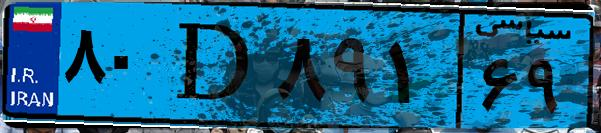0: (110, 28, 158, 98)
1: (385, 28, 445, 110)
6: (475, 38, 525, 113)
8: (270, 28, 330, 110), (57, 26, 110, 100)
9: (330, 28, 385, 110), (525, 38, 570, 115)
D: (158, 12, 270, 120)
